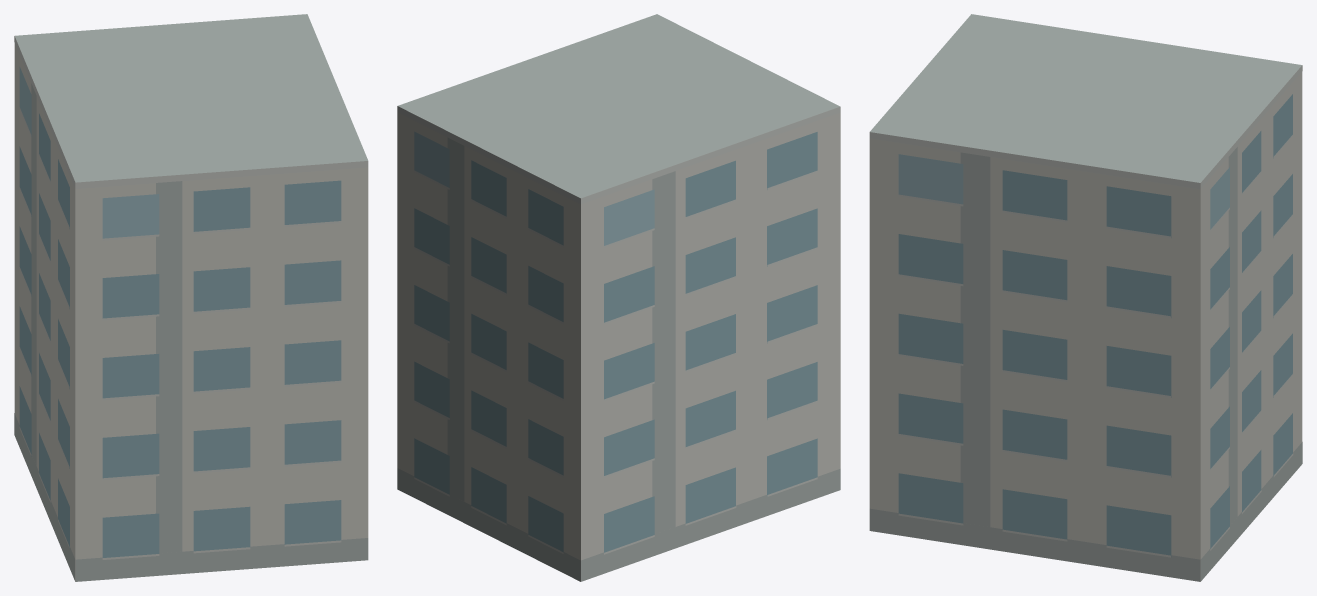
File: residential-de87fbfd-ca45-4419-9cd3-989eaa184a5c.glb
3 views of the same model, side by side, from view 1: azimuth 30°, elevation 25°; view 2: azimuth 150°, elevation 25°; view 3: azimuth 270°, elevation 25° (orthographic). The views are drawn at different scales.
Visible parts, largest first — view 1: residential-de87fbfd-ca45-4419-9cd3-989eaa184a5c.tmp; view 2: residential-de87fbfd-ca45-4419-9cd3-989eaa184a5c.tmp; view 3: residential-de87fbfd-ca45-4419-9cd3-989eaa184a5c.tmp.
Part boxes in pixels (left/top/right/bottom): residential-de87fbfd-ca45-4419-9cd3-989eaa184a5c.tmp: left=14, top=14, right=368, bottom=581; residential-de87fbfd-ca45-4419-9cd3-989eaa184a5c.tmp: left=397, top=14, right=840, bottom=581; residential-de87fbfd-ca45-4419-9cd3-989eaa184a5c.tmp: left=869, top=14, right=1302, bottom=581.
Size of the model in its own units: 13.87 by 15.25 by 15.01.
